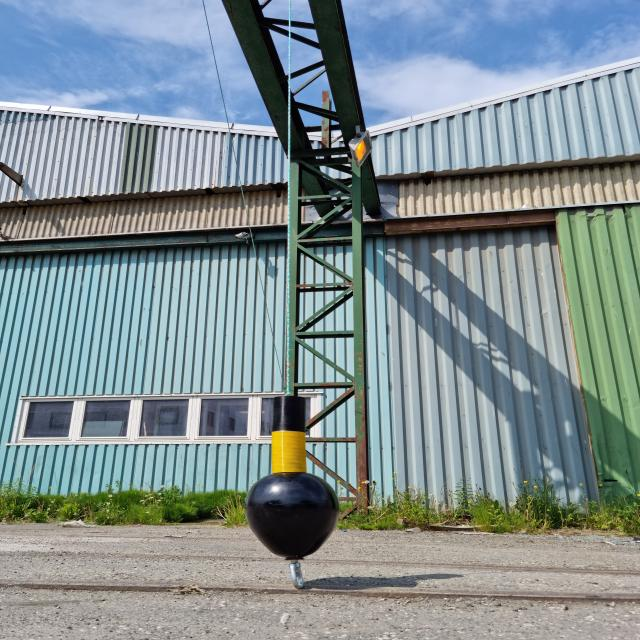east: (246, 395, 339, 559)
